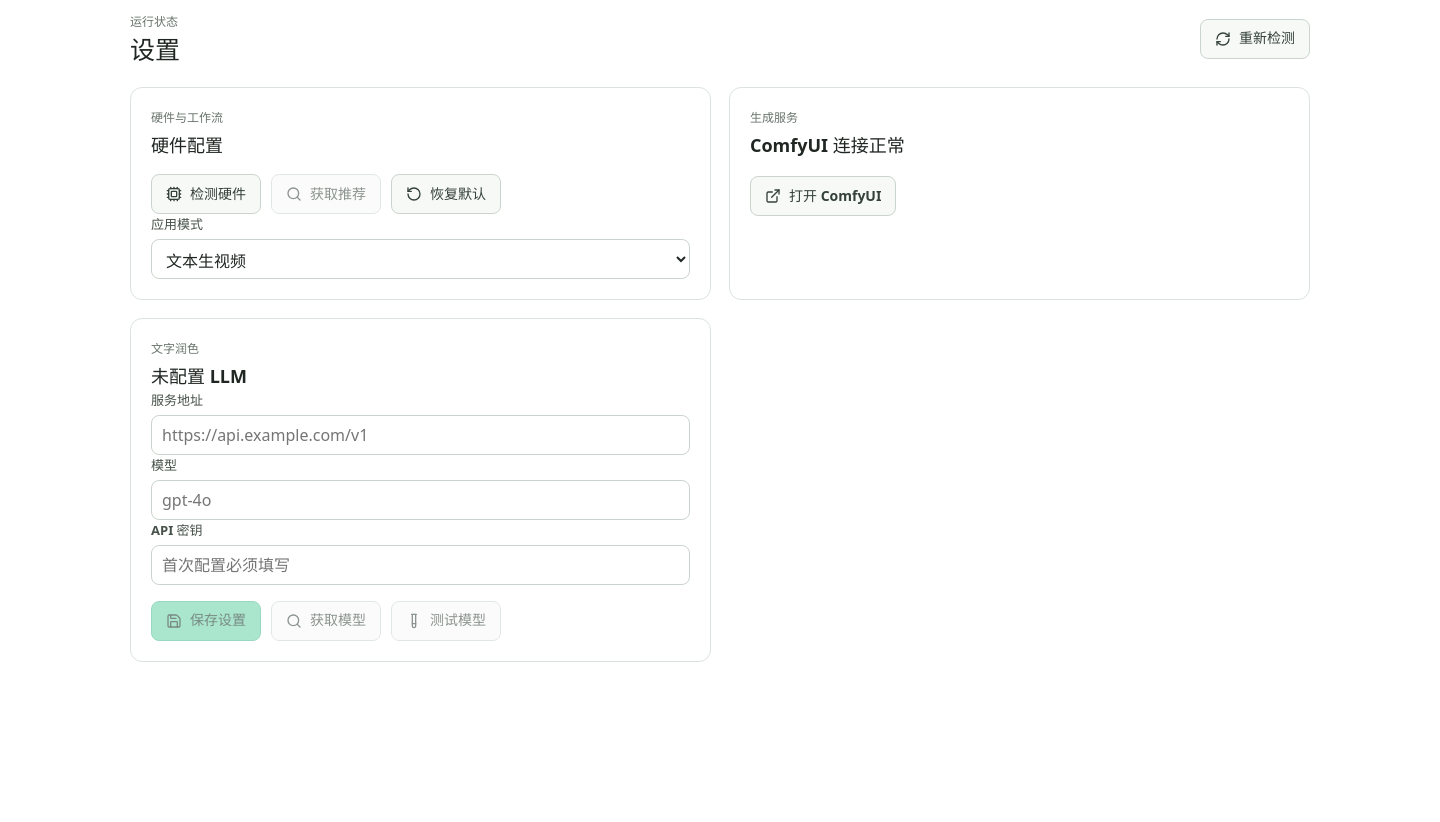
Test case: SettingsPage hardware controls › shows the real detection error
This screenshot has width=1440, height=822.
Click the button "检测硬件": x=206, y=194 [151,174,261,214]
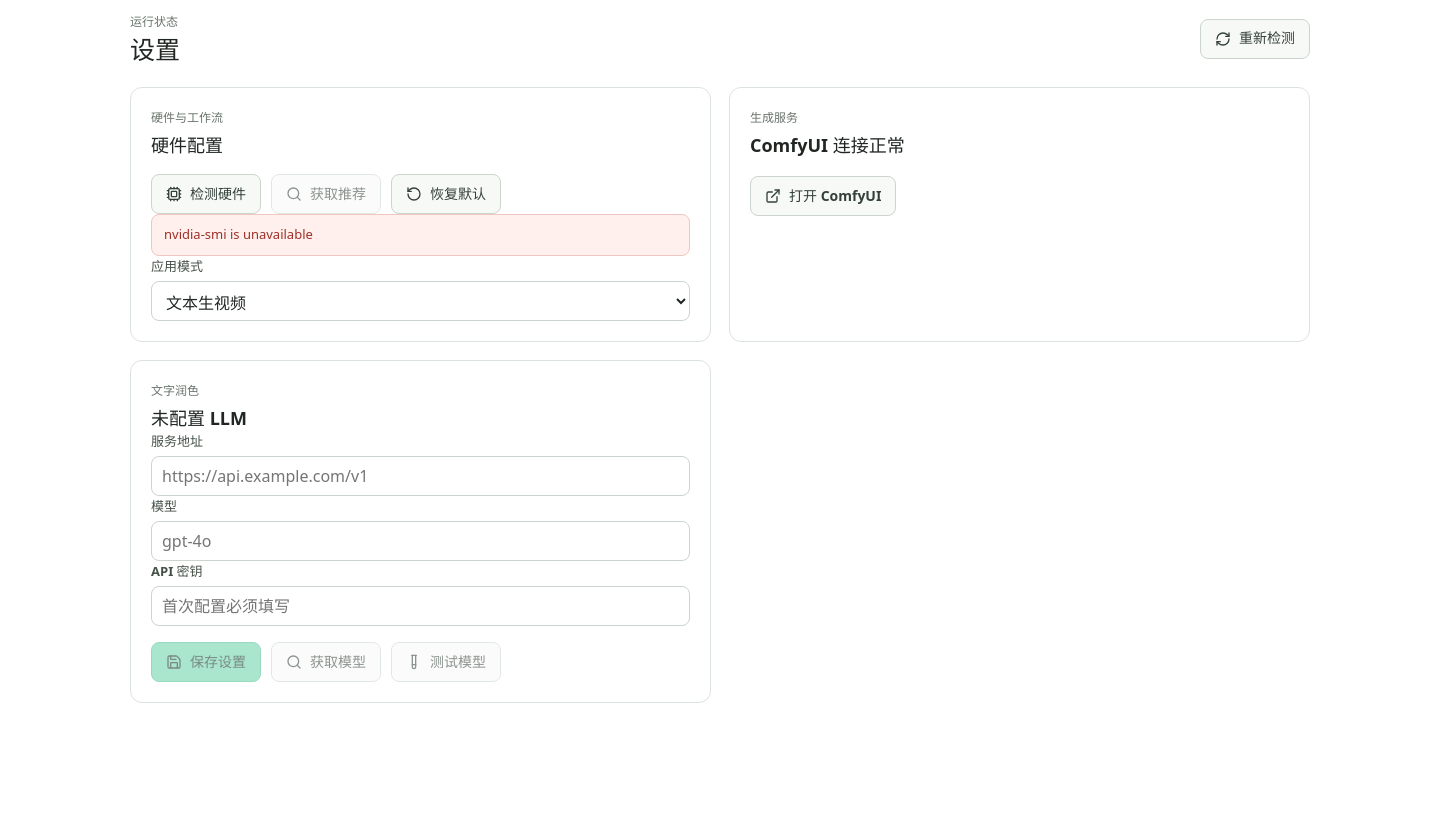
expect the text "nvidia-smi is unavailable" is shown: met, box [151,214,690,256]
